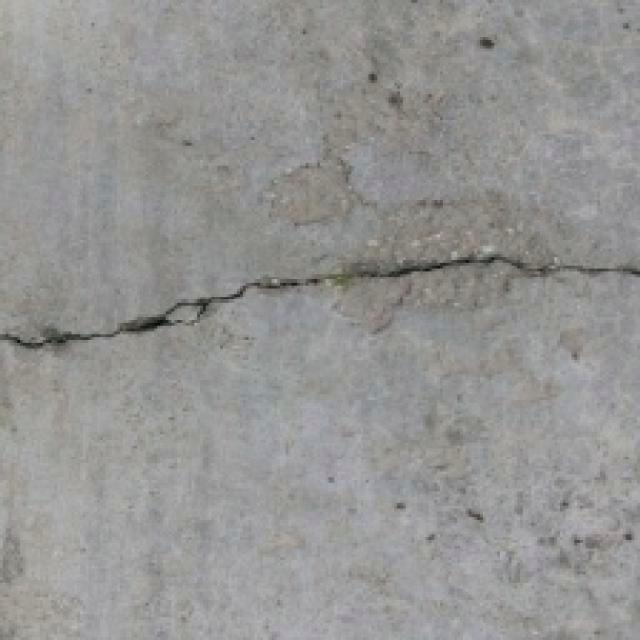SurfaceCrack: (4, 206, 640, 382)
